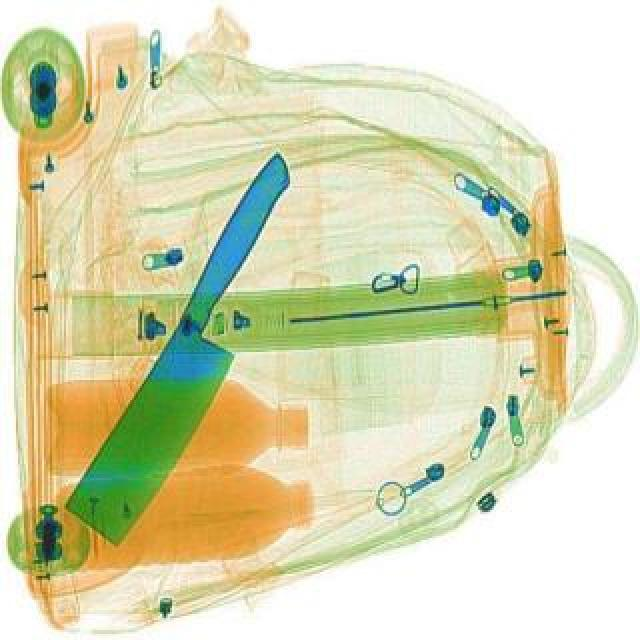knife: (42, 148, 354, 548)
